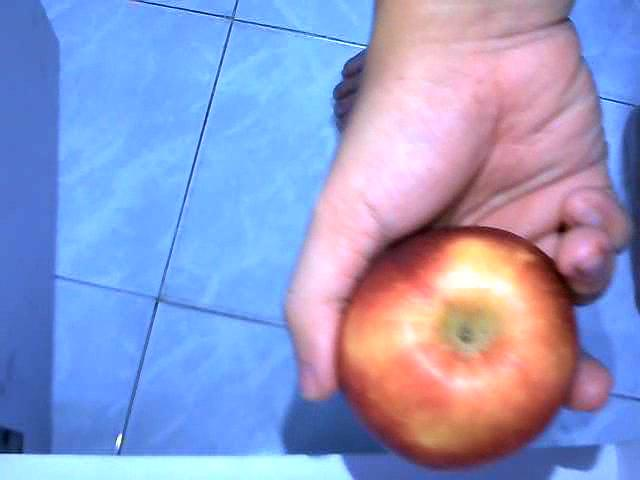apple: (333, 223, 578, 468)
